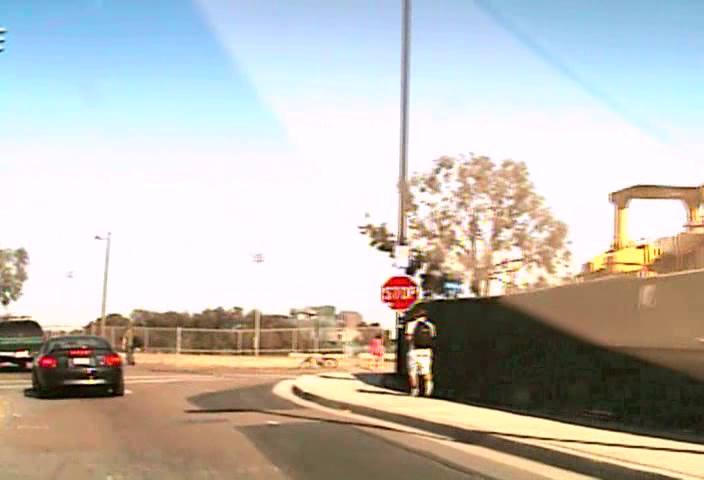stop: (380, 275, 419, 311)
